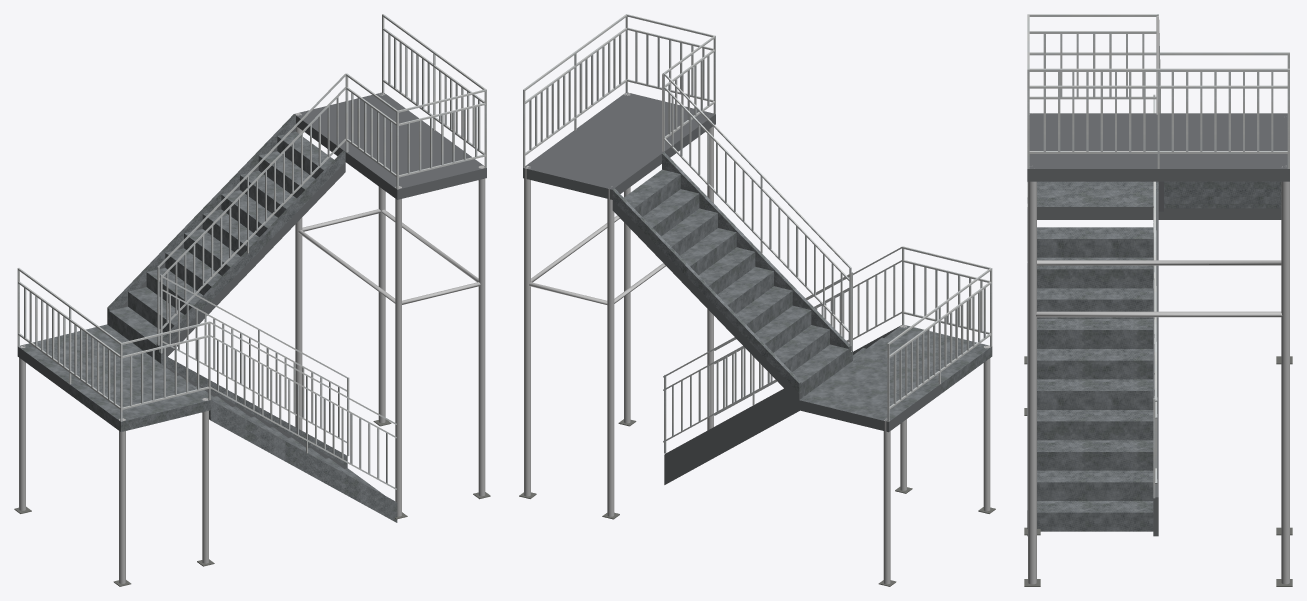
3 renders of one model, left to right at view 1: azimuth 30°, elevation 25°; view 2: azimuth 150°, elevation 25°; view 3: azimuth 270°, elevation 25°, orthographic. The views are drawn at different scales.
Visible parts, largest first — view 1: Group13, Group1, Group15, Group14, Group8, Group10, Group23, Group22, Group9, Group4, Group3, Group171 (+16 smaller); view 2: Group13, Group8, Group14, Group15, Group1, Group9, Group24, Group10, Group21, Group11, Group5, Group127 (+14 smaller); view 3: Group2, Group8, Group15, Group1, Group21, Group23, Group13, Group171, Group154, Group14, Group162, Group127 (+3 smaller).
Boxes of the visible parts, x1,y1,x2,y2 form: Group13: (109,131,333,360); Group1: (69,362,210,431); Group15: (345,130,486,199); Group14: (17,324,158,393); Group8: (294,92,433,155); Group10: (156,150,345,355); Group23: (478,165,485,496); Group22: (395,186,401,516); Group9: (107,114,295,318); Group4: (210,400,397,512); Group3: (209,410,397,522); Group171: (298,209,480,304); Group13: (624,169,848,398); Group8: (523,130,663,199); Group14: (799,362,940,432); Group15: (576,92,715,157); Group1: (851,325,992,393); Group9: (612,188,801,393); Group24: (607,186,614,516); Group10: (662,152,850,356); Group21: (524,166,530,496); Group11: (612,200,801,403); Group5: (664,402,799,484); Group127: (887,268,992,421); Group2: (1037,227,1153,531); Group8: (1158,113,1289,181); Group15: (1027,113,1158,181); Group1: (1037,181,1158,219); Group21: (1281,165,1289,584); Group23: (1028,181,1036,584); Group13: (1164,181,1281,208); Group171: (1036,260,1282,317); Group154: (1027,68,1289,168); Group14: (1158,208,1281,219); Group162: (1028,14,1158,113); Group127: (1029,52,1289,71).
Size of the model in its own units: 4965 by 5268 by 2455.
6 materials, 2 textured.
